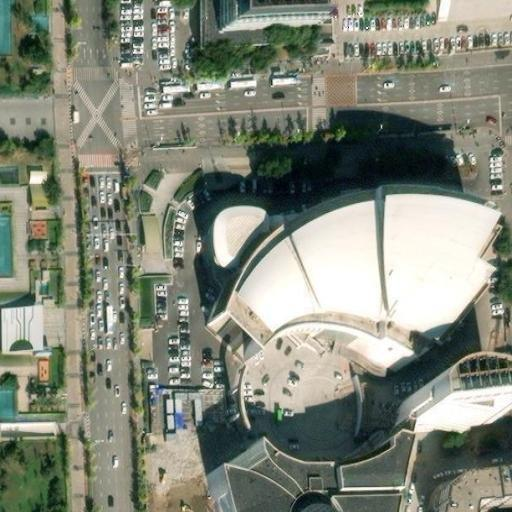building: (209, 174, 490, 350), (239, 314, 435, 462), (214, 420, 416, 512), (432, 378, 512, 426), (440, 466, 512, 512), (0, 302, 46, 353), (28, 166, 51, 207), (0, 214, 12, 278), (0, 384, 16, 419), (0, 163, 22, 186)
